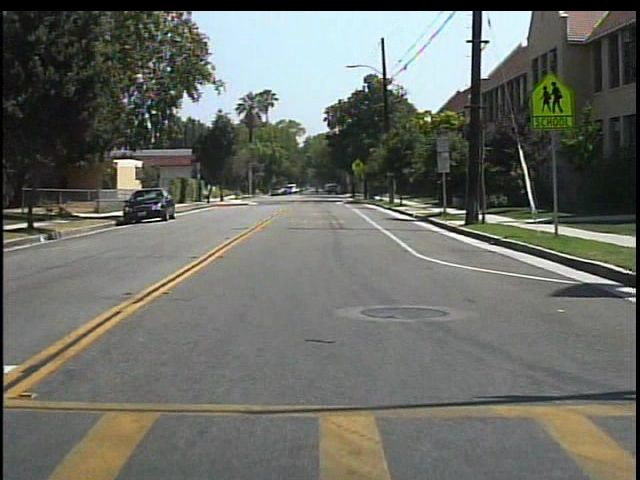person: (309, 180, 324, 198)
